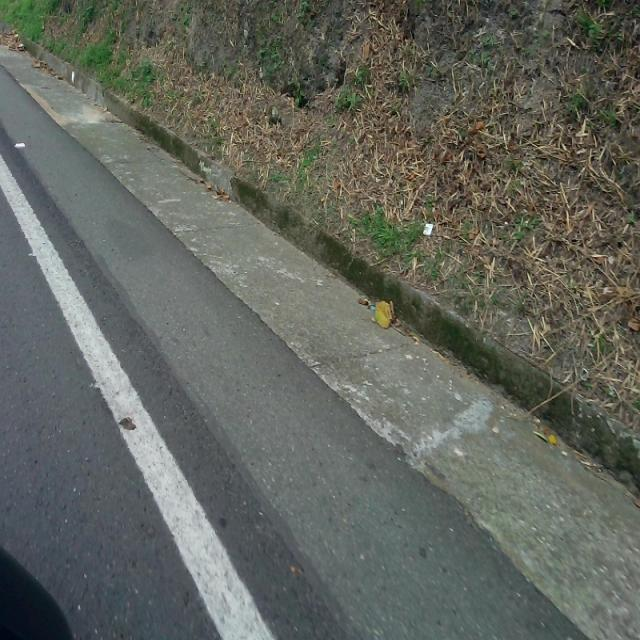DITCH: (1, 1, 638, 638), (1, 18, 638, 639), (1, 28, 636, 638)
